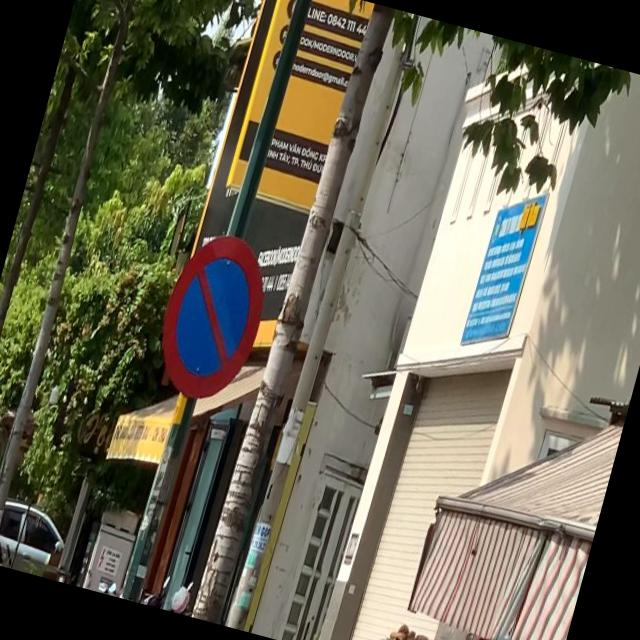P-131a: (141, 220, 282, 412)
